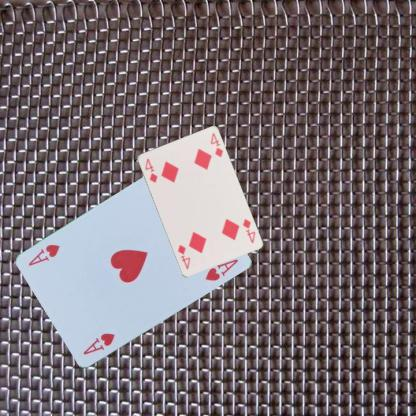4d: (142, 155, 158, 184), (240, 216, 256, 244)
Ah: (80, 330, 116, 356)
